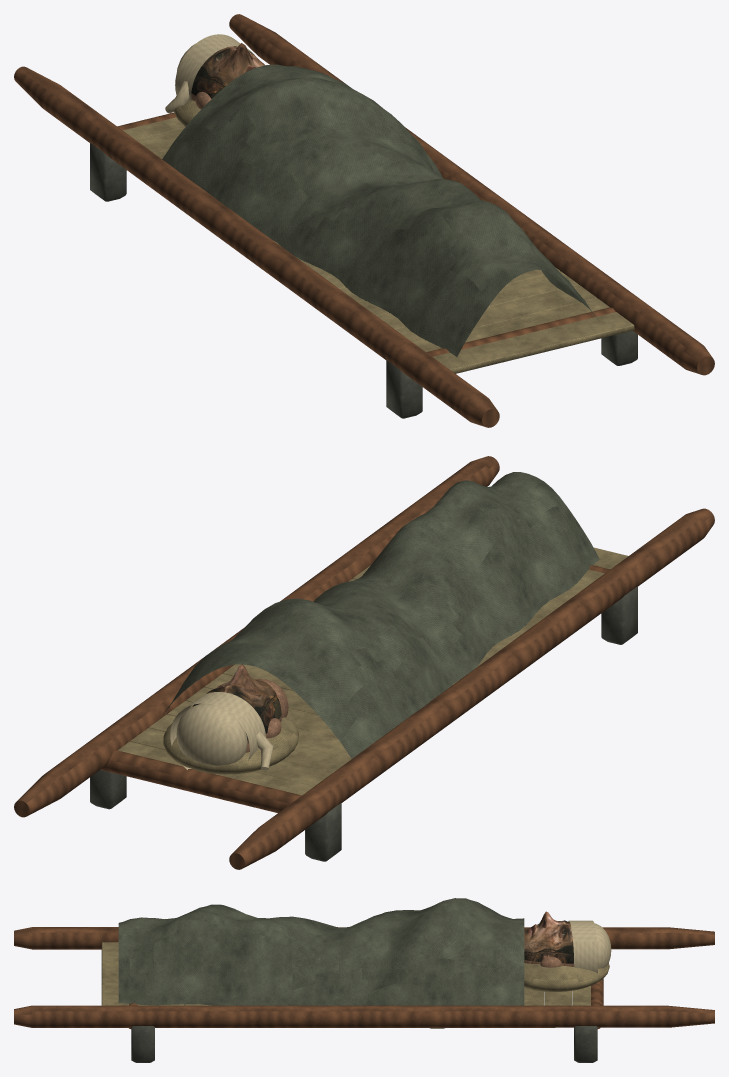
The model's file is WardLitter.fbx.
The picture shows the model from 3 angles, top to bottom: view 1: azimuth 30°, elevation 25°; view 2: azimuth 150°, elevation 25°; view 3: azimuth 270°, elevation 25°; orthographic projection. The views are drawn at different scales.
Visible parts, largest first — view 1: Canvas_stretcher; view 2: Canvas_stretcher; view 3: Canvas_stretcher.
Boxes of the visible parts, bbox=[...] form: Canvas_stretcher: bbox=[14, 14, 714, 427]; Canvas_stretcher: bbox=[14, 456, 714, 869]; Canvas_stretcher: bbox=[14, 898, 714, 1062].
Size of the model in its own units: 0.678 by 0.4193 by 2.28.
